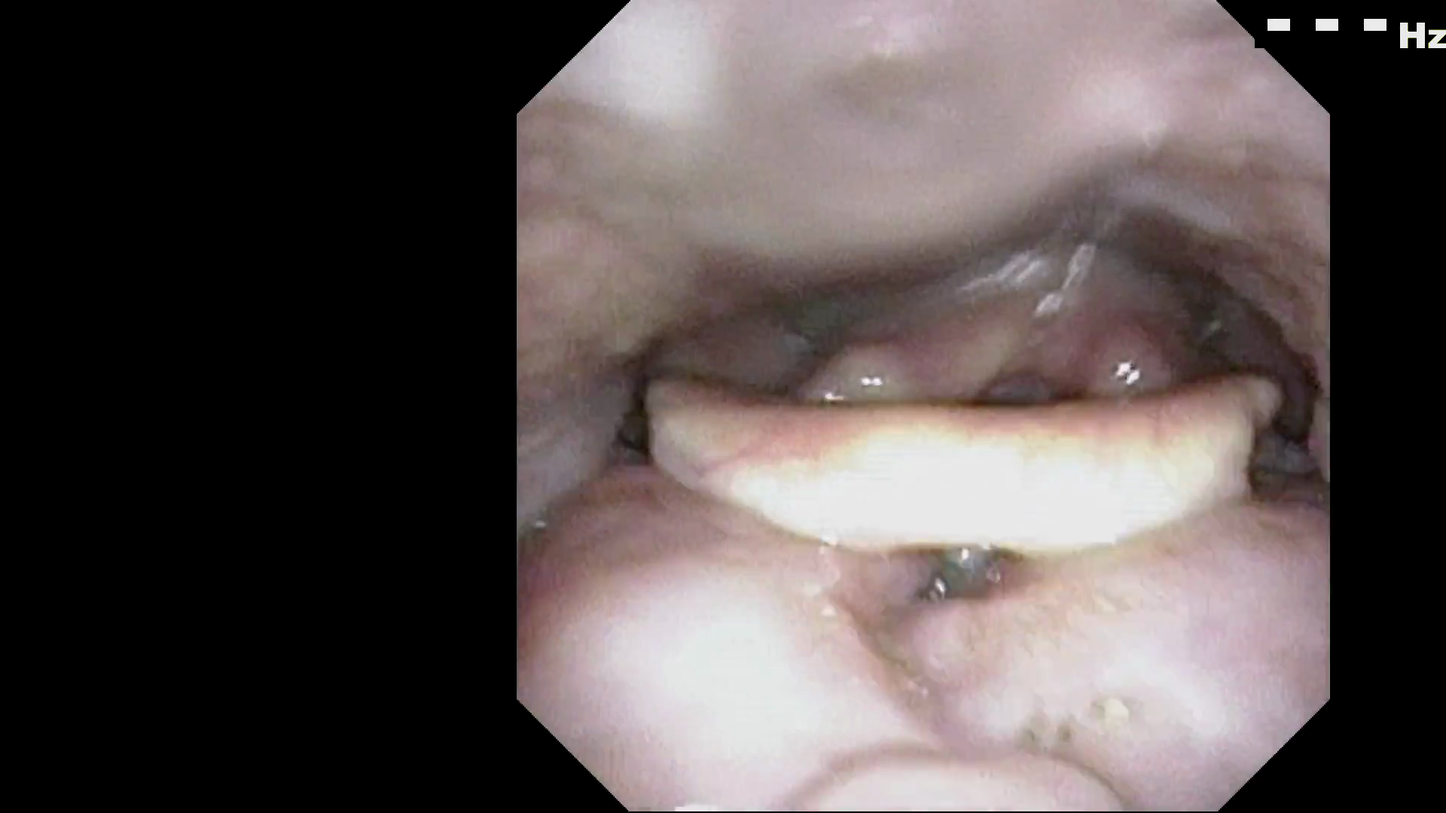epiglottis: (662, 411, 1295, 572)
trachea: (935, 386, 1089, 467)
